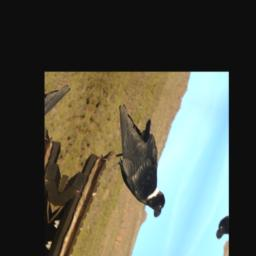Crow: (86, 103, 195, 221)
